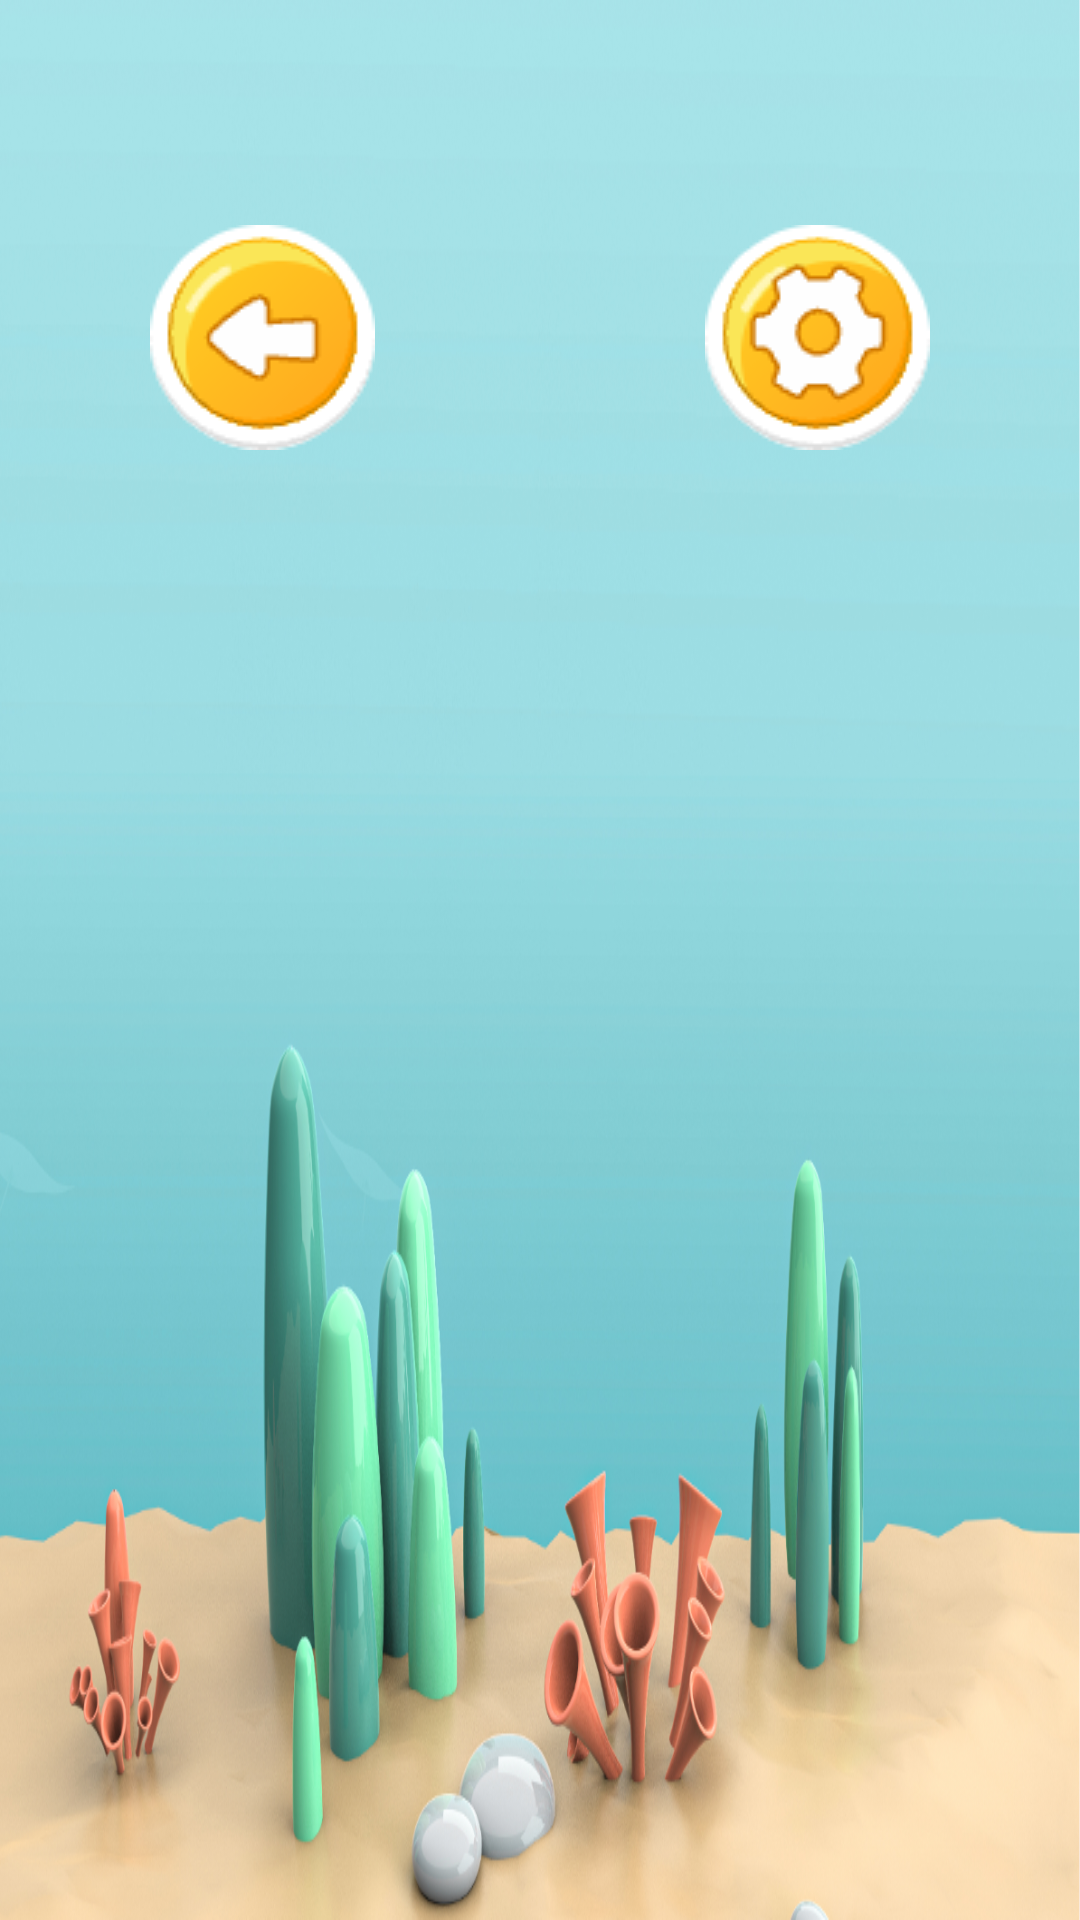

Icons on this 1080w x 1920h Android screen, each with its box as (x1, y1, x2, y2):
back: (150, 225, 375, 450)
settings: (705, 225, 930, 450)
